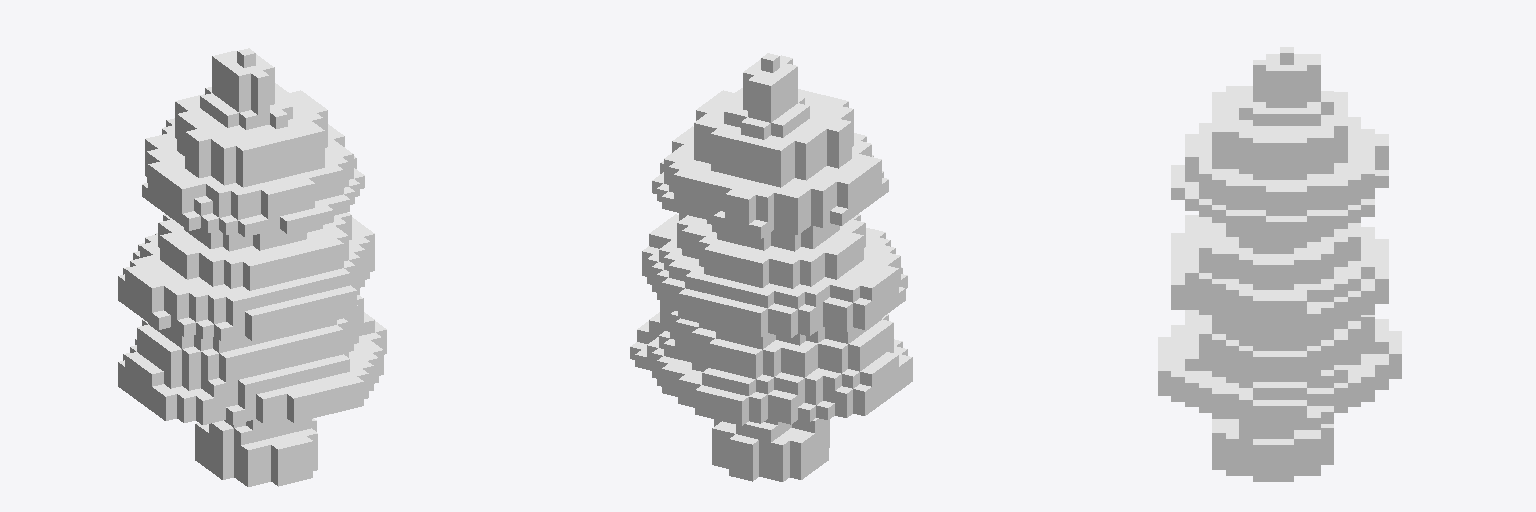
The model's file is ChristmasTree.obj.
The picture shows the model from 3 angles: view 1: azimuth 30°, elevation 25°; view 2: azimuth 150°, elevation 25°; view 3: azimuth 270°, elevation 25°; orthographic projection.
Visible parts, largest first — view 1: object 1; view 2: object 1; view 3: object 1.
Boxes of the visible parts, box(x1,y1,x2,y2) form: object 1: box(118, 48, 386, 486); object 1: box(630, 53, 912, 481); object 1: box(1158, 47, 1401, 481).
Bounding box in the file's own units: 2 × 3.3 × 1.8.